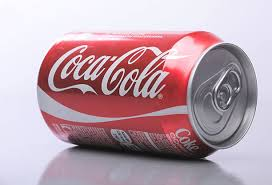can: (35, 26, 260, 167)
